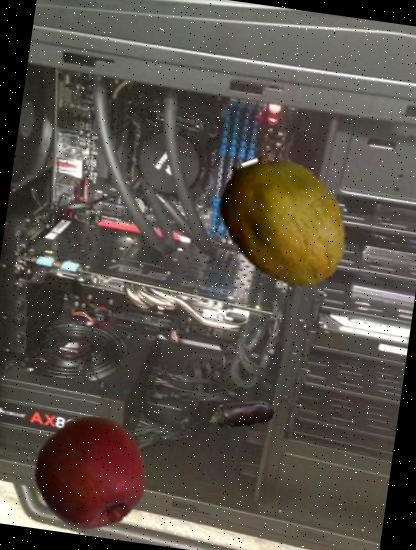Apple: (26, 409, 156, 538)
Eggplant: (203, 376, 282, 454)
Papaya: (205, 144, 364, 303)
